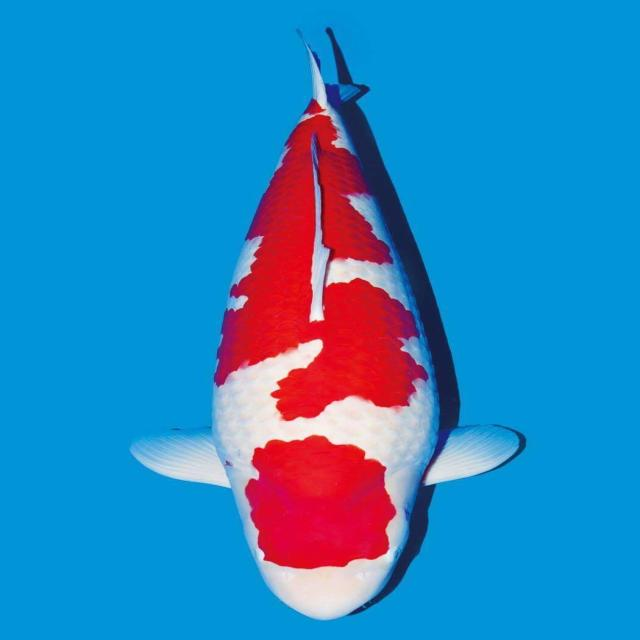Kohaku: (129, 25, 526, 620)
